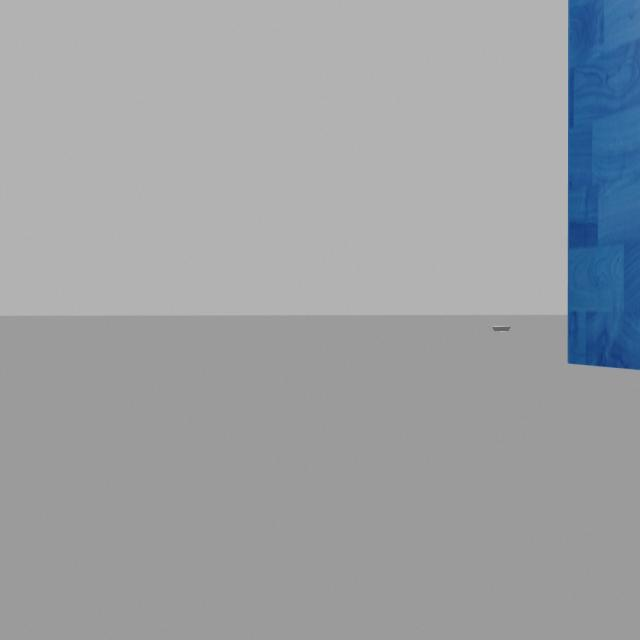bowl: (491, 316, 520, 348)
shelf: (548, 0, 640, 401)
